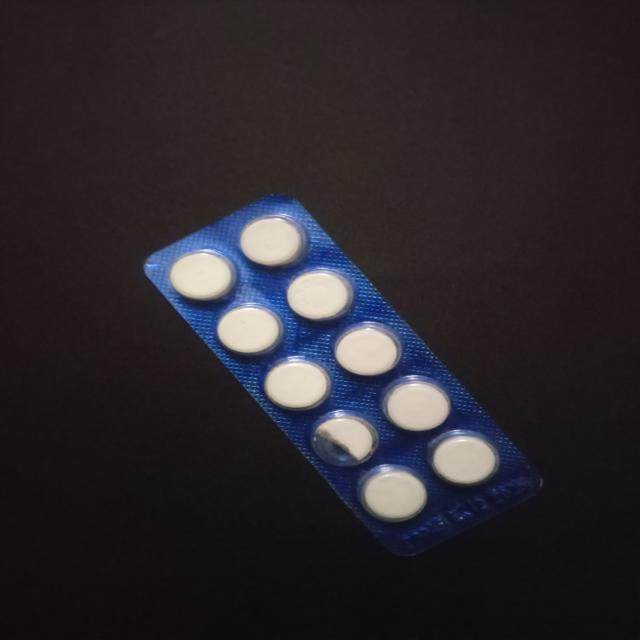defect: (309, 409, 382, 468)
